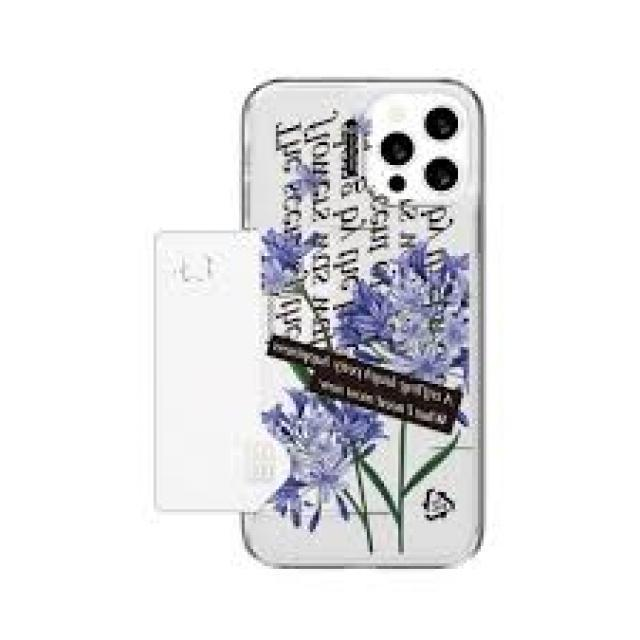mobile: (126, 64, 491, 580)
